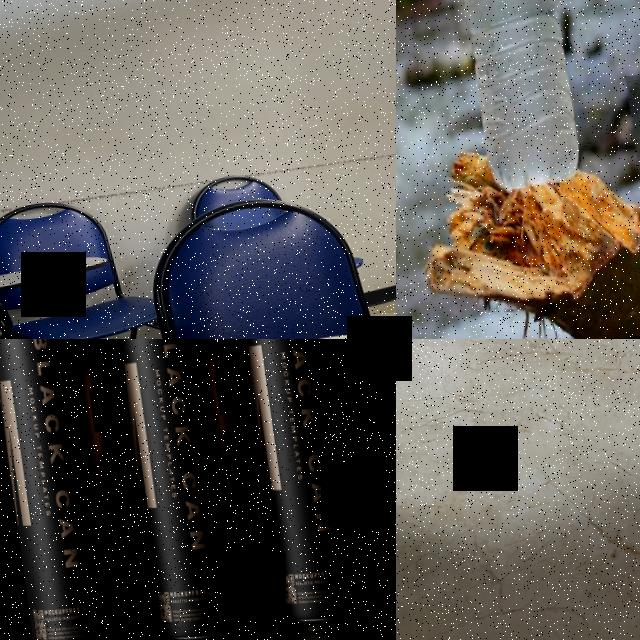bottle: (431, 0, 589, 194)
can: (226, 339, 387, 640), (104, 339, 264, 640), (0, 339, 142, 640)
